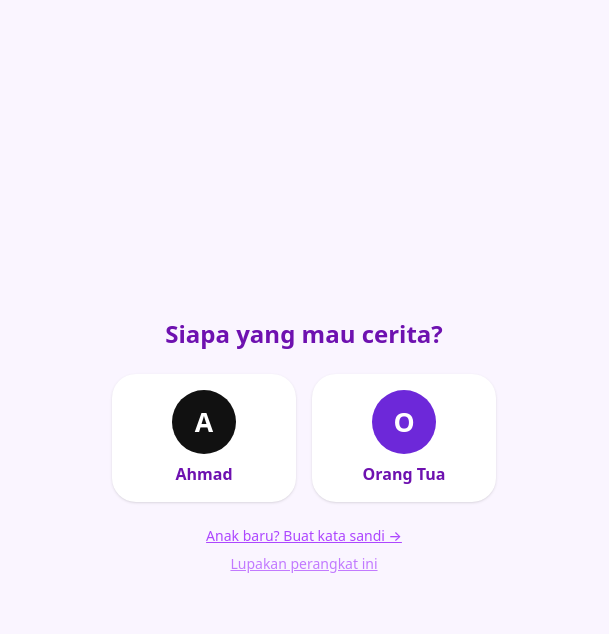
Test: family login (lobby-first) › a /post/5 deep link lands on the post after entering guardian mode
The width and height of the screenshot is (609, 634).
Click the text "Orang Tua".
click(404, 474)  # box x1=363 y1=462 x2=445 y2=486
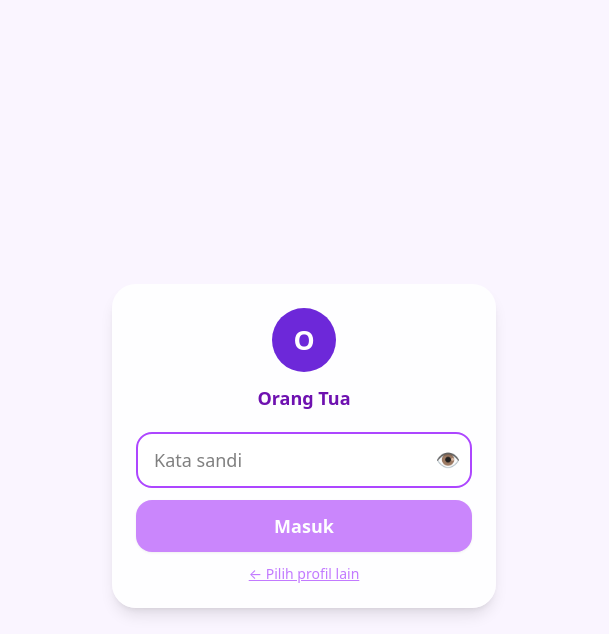
Type "rahasia" into the password field with placeholder "Kata sandi".
click(304, 460); type("rahasia")  # box x1=136 y1=432 x2=472 y2=488
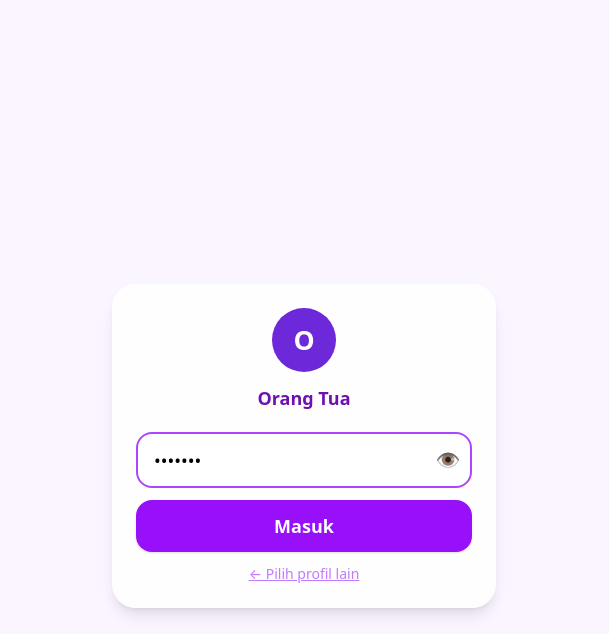
Click the button "Masuk".
click(304, 526)  # box x1=136 y1=500 x2=472 y2=552
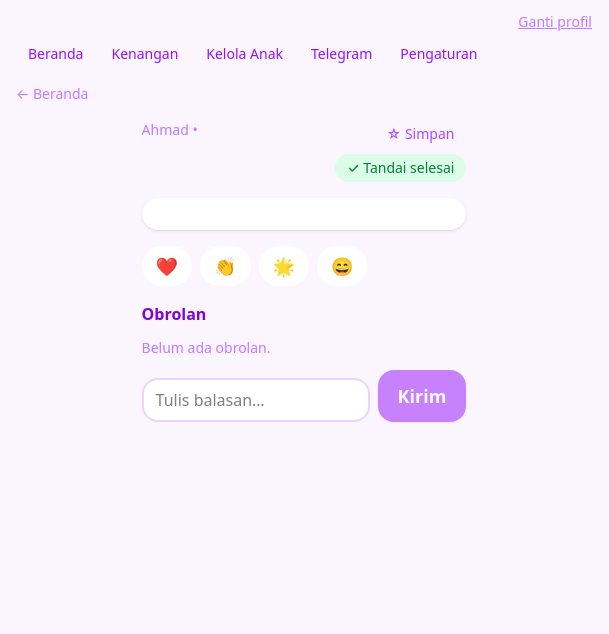
Check: the button "← Beranda" is shown, box x1=16 y1=84 x2=88 y2=104
